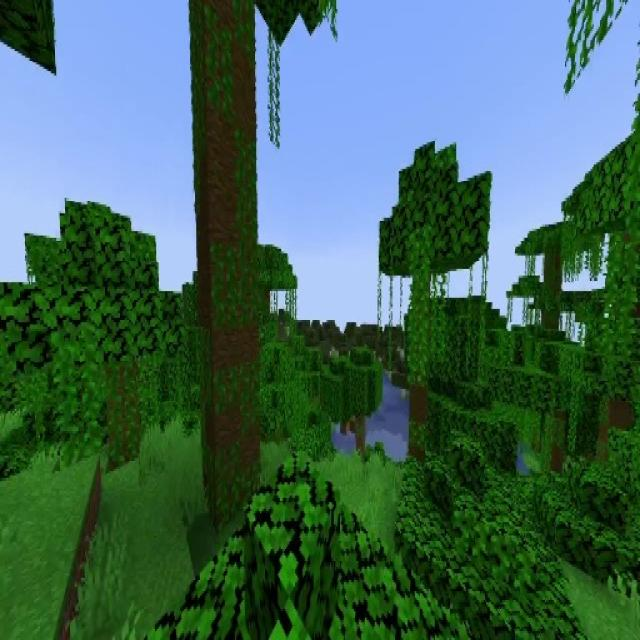jungle: (29, 210, 174, 472), (375, 144, 487, 453), (508, 225, 600, 331)
jungle_log: (188, 0, 266, 527), (410, 274, 430, 457), (104, 367, 138, 464)
